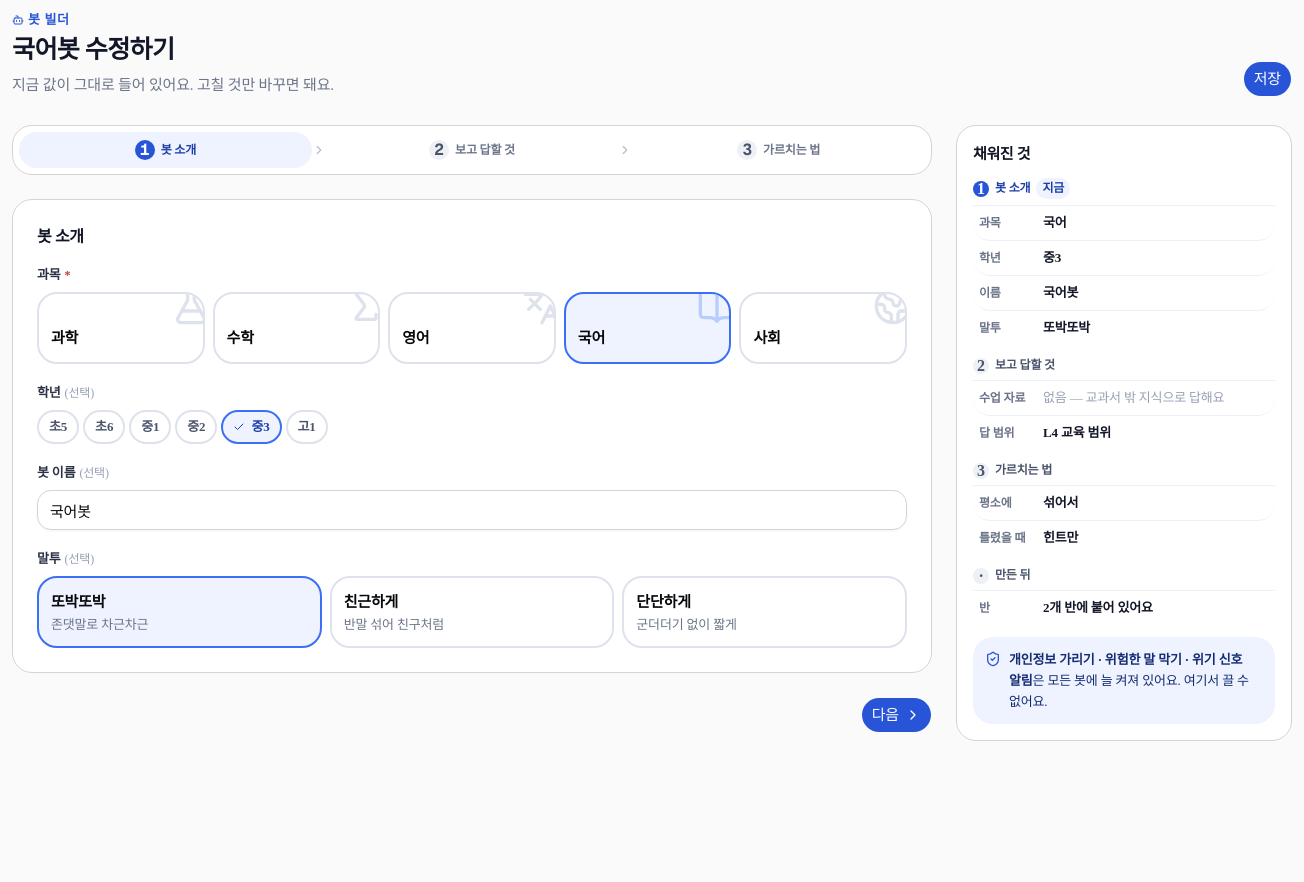
Test: 마당은 빌더와 같이 움직인다 › 마당 셋을 그대로 오간다 — 마당 3 에서는 아래 자리도 「저장」이 이어받는다
The width and height of the screenshot is (1304, 882).
Expected: the heading "봇 소개" is shown, [37,228,84,245]
Step 1. Click the button "다음" → {"x": 896, "y": 715}, box [861,697,932,733]
(page scrolled)
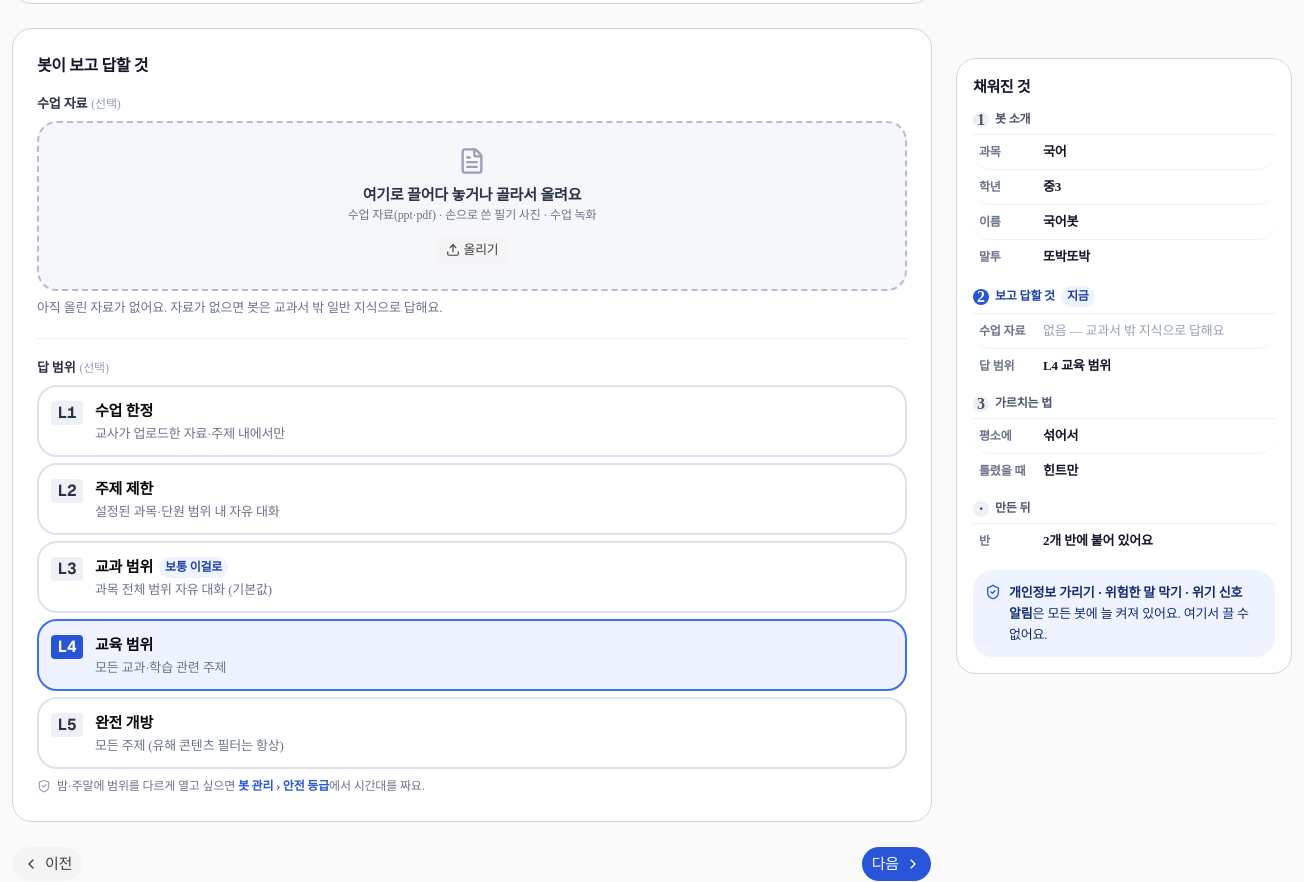
Now the heading "봇이 보고 답할 것" is shown, box [37,57,148,74]
Step 2. Click the button "다음" → {"x": 896, "y": 864}, box [861,846,932,881]
(page scrolled)
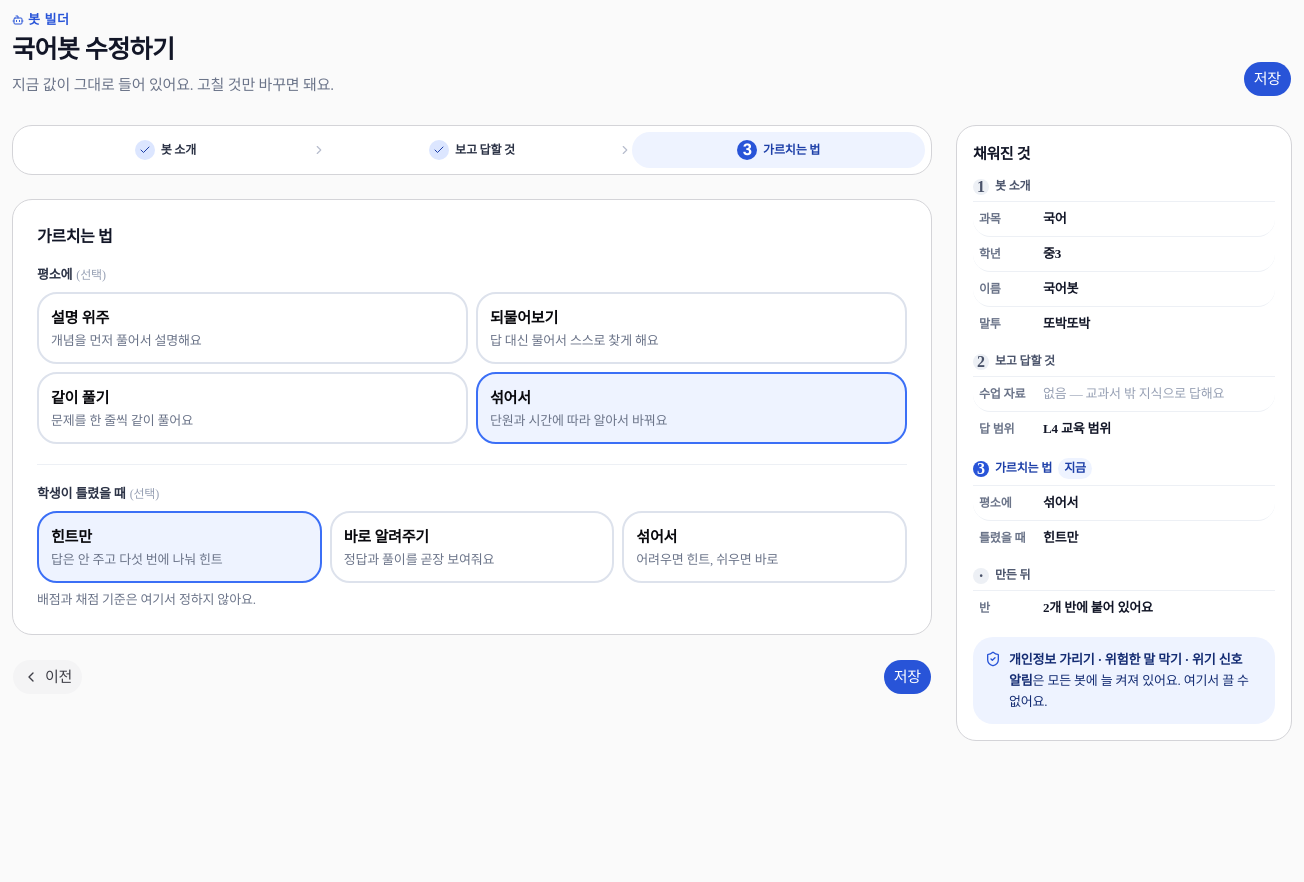
Now the heading "가르치는 법" is shown, box [37,228,112,245]
Now the button "다음" is gone
Now the number of buttons named "고친 그대로 저장하기" is 2, box [1243,61,1292,97]; [883,659,932,695]
